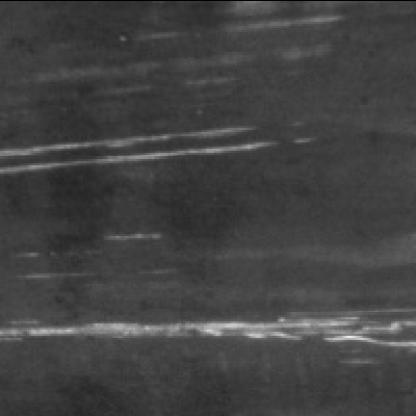scratches: (4, 308, 416, 360), (2, 125, 318, 181)
